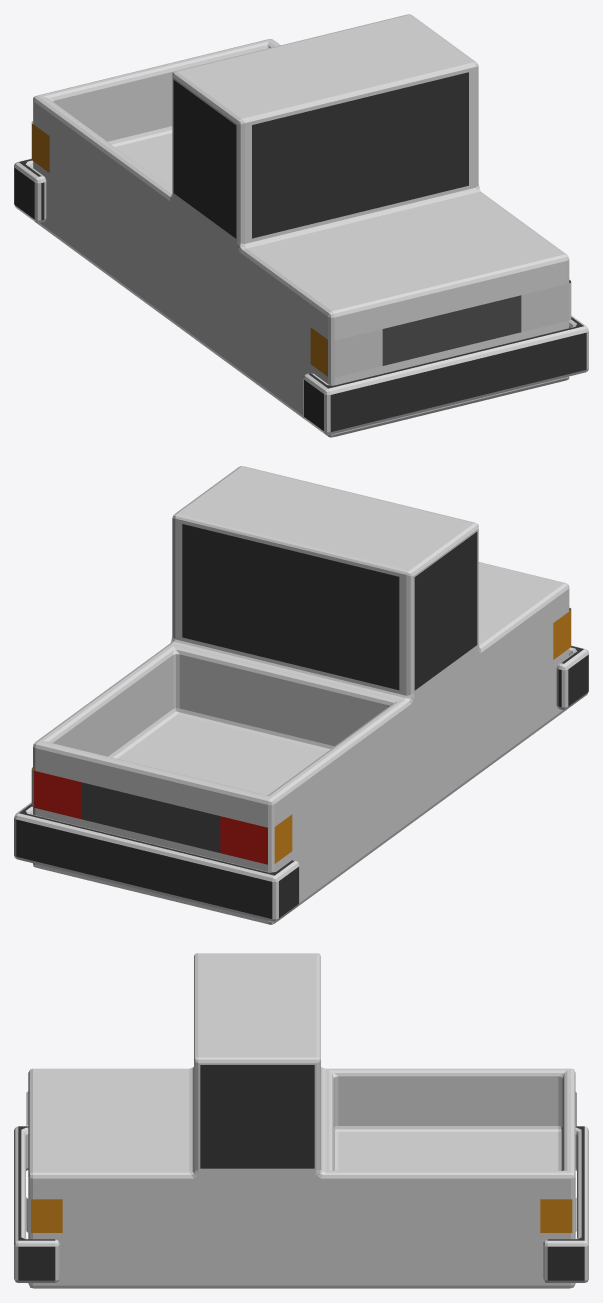
File: Vehicle.fbx
3 views of the same model, one above another, from view 1: azimuth 30°, elevation 25°; view 2: azimuth 150°, elevation 25°; view 3: azimuth 270°, elevation 25° (orthographic). The views are drawn at different scales.
Parts seen in each view (by area): view 1: body; view 2: body; view 3: body.
Part boxes in pixels (left/top/right/bottom): body: left=14, top=14, right=588, bottom=437; body: left=14, top=466, right=588, bottom=924; body: left=14, top=953, right=588, bottom=1288.
Bounding box in the file's own units: 2.19 × 2 × 4.52.
